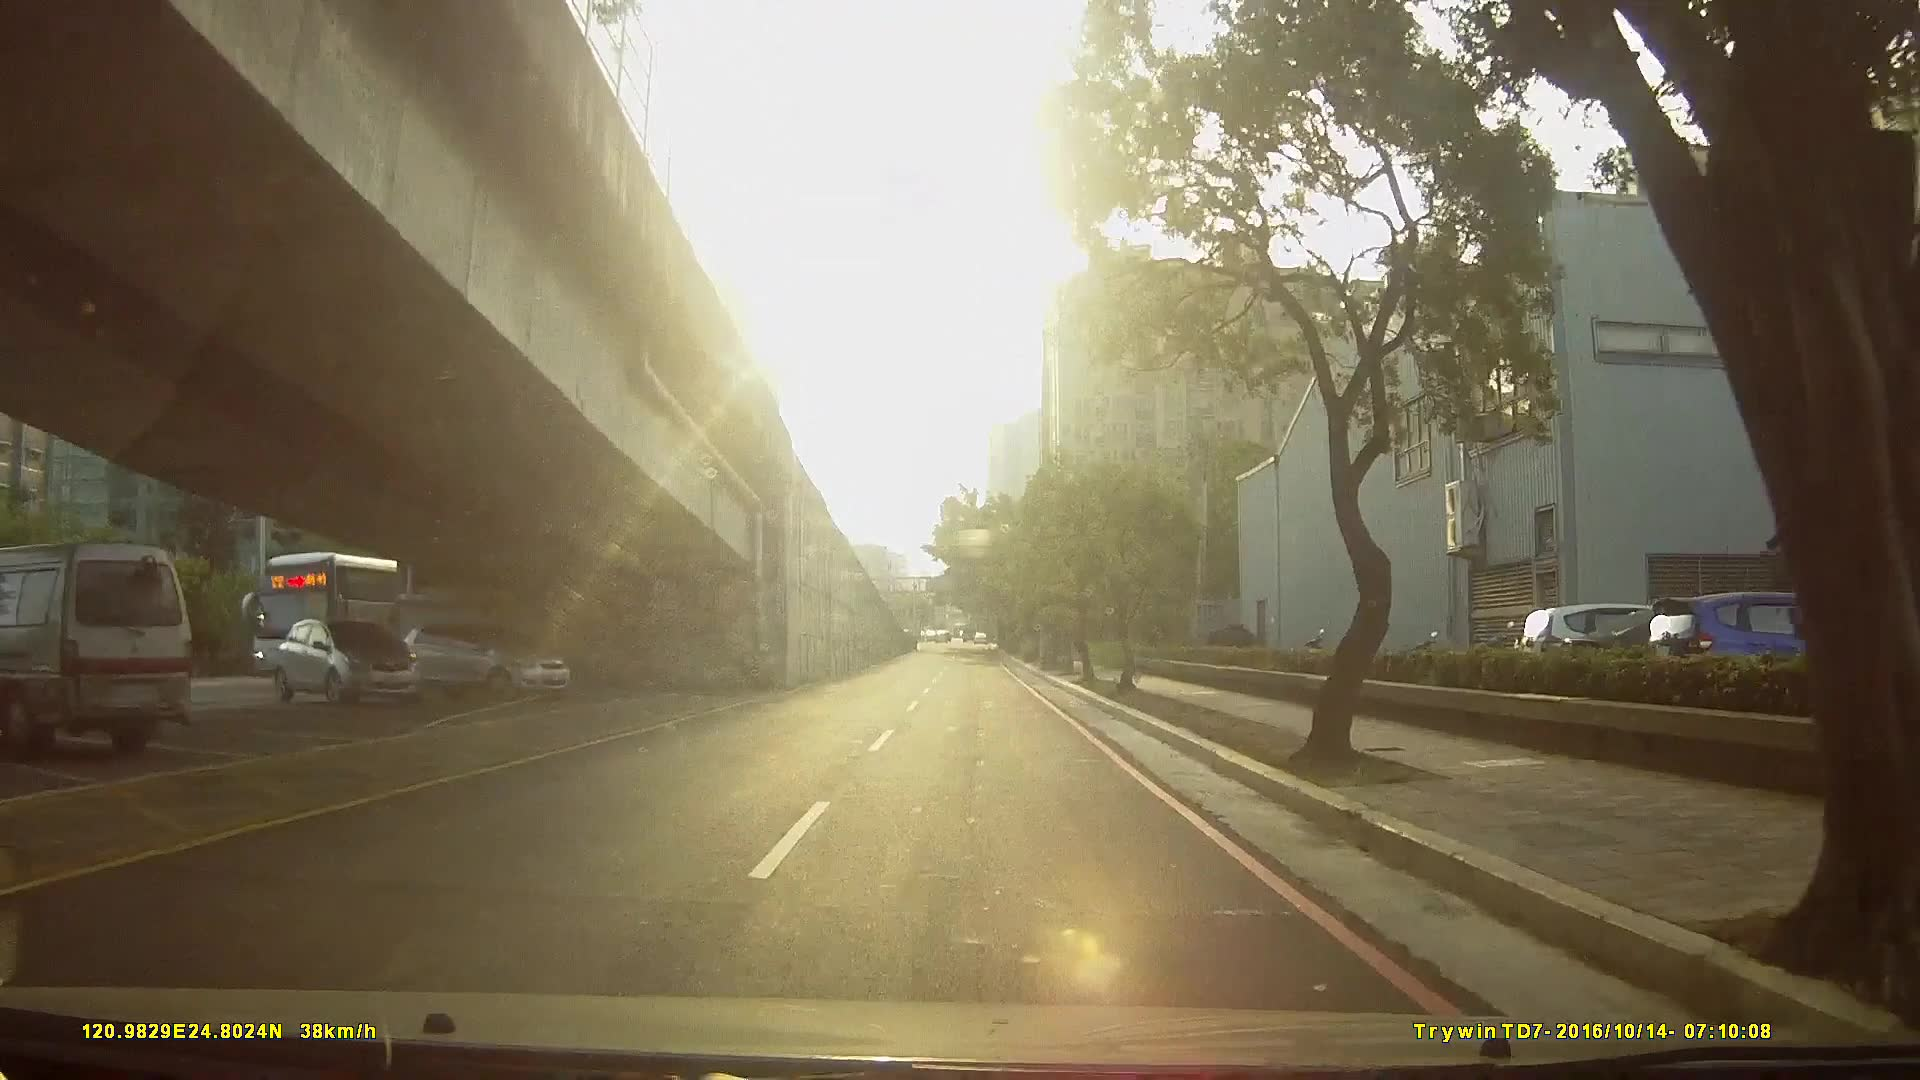vehicle: (1, 535, 207, 764), (239, 546, 473, 695), (389, 620, 568, 704), (261, 615, 415, 708)
